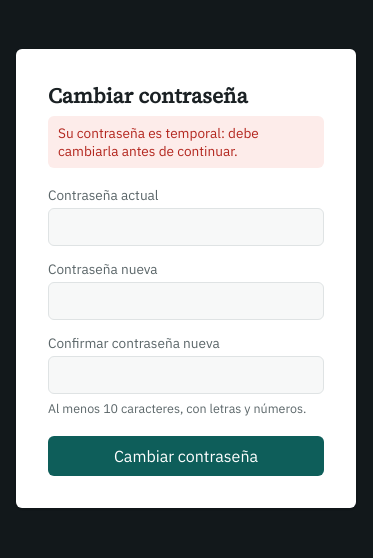
Test: CambiarPassword › rechaza en el cliente si la confirmación no coincide
The image size is (373, 558).
Type "cambiar123" into the password field labelled "Contraseña actual" at (186, 226), box [48, 208, 324, 246]
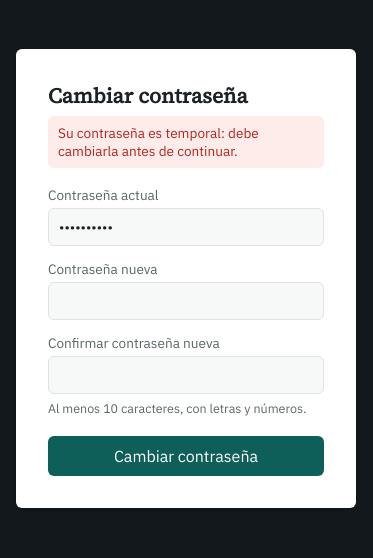
Type "NuevaClave99" into the password field labelled "Contraseña nueva" at (186, 300), box [48, 282, 324, 320]
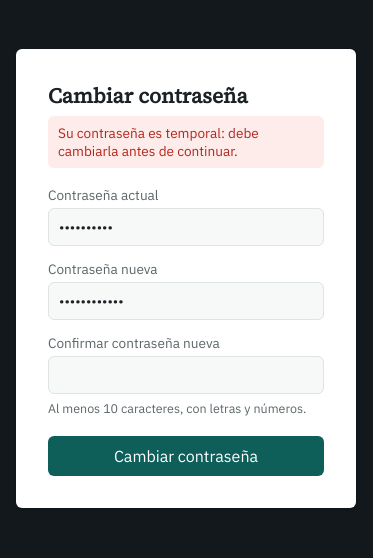
Type "OtraCosa99" into the password field labelled "Confirmar contraseña nueva" at (186, 374), box [48, 356, 324, 394]
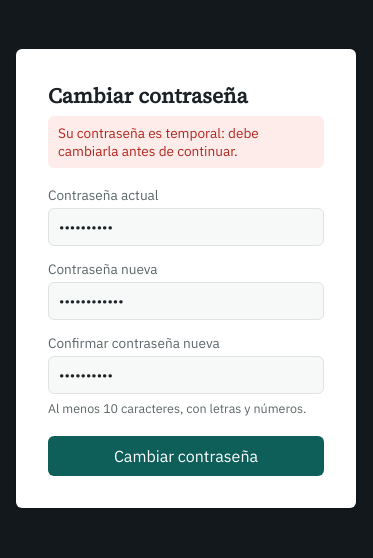
Click the button "Cambiar contraseña" at (186, 456), box [48, 436, 324, 476]
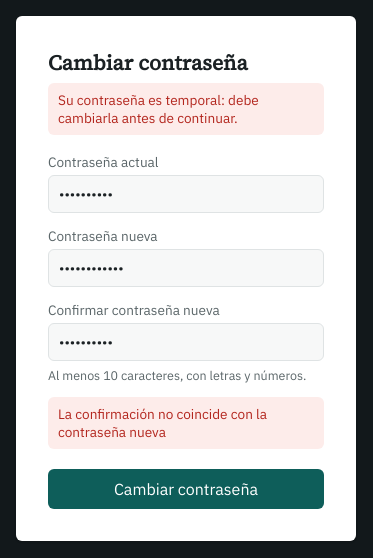
Now the text "La confirmación no coincide con la contraseña nueva" is shown, box [48, 396, 324, 448]
